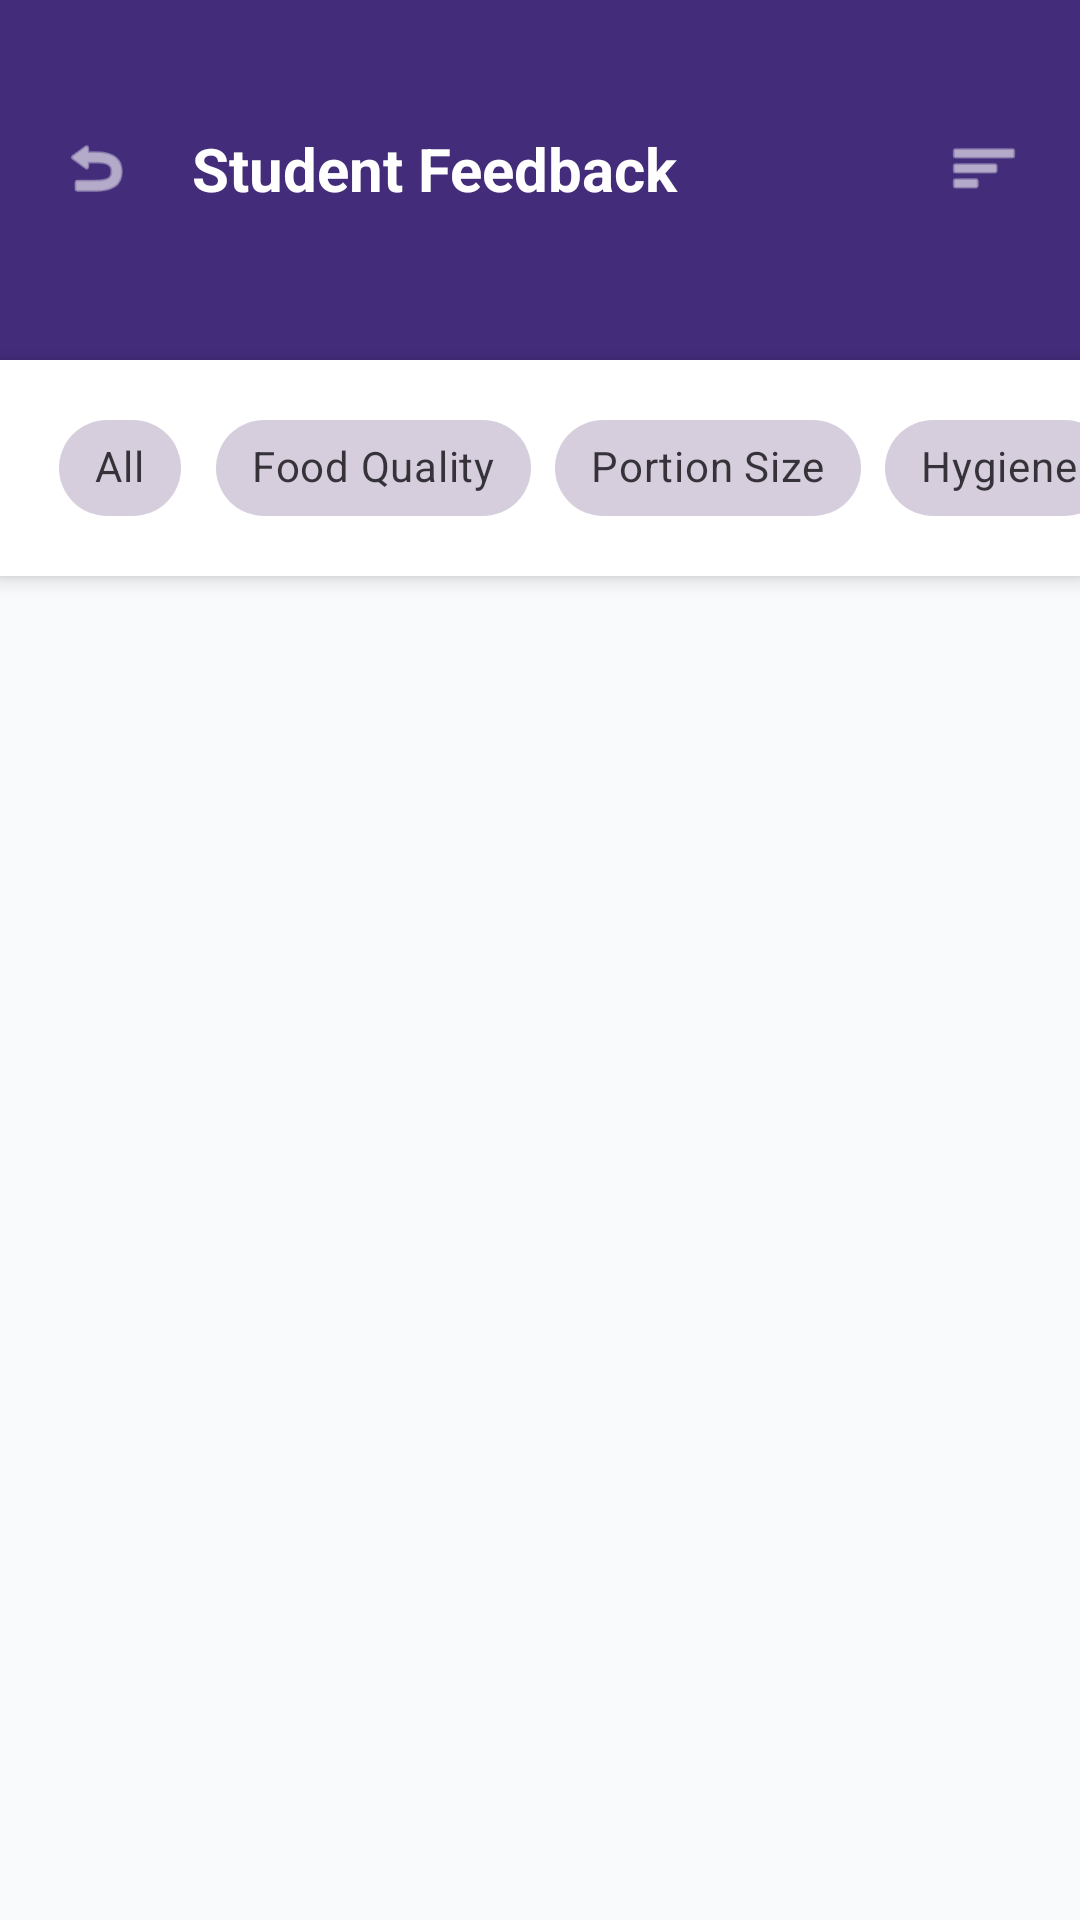

Screen size 1080px x 1920px. Icon name, then its box in pixels as (x1, y1, x2, y2):
revert: (71, 145, 123, 192)
sort by size: (953, 148, 1015, 189)
